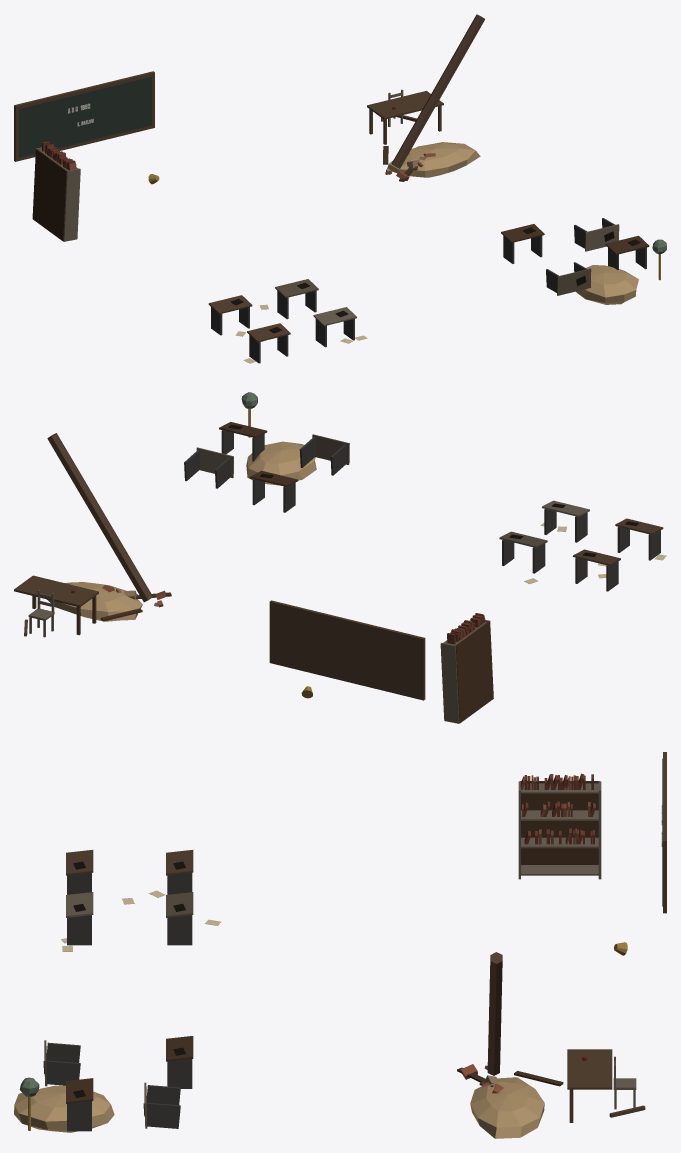
Rendered from TownRoom_school.glb.
The picture shows the model from 3 angles, top to bottom: view 1: azimuth 30°, elevation 25°; view 2: azimuth 150°, elevation 25°; view 3: azimuth 270°, elevation 25°; orthographic projection. The views are drawn at different scales.
Visible parts, largest first — view 1: TownRoom_school.001; view 2: TownRoom_school.001; view 3: TownRoom_school.001.
Part boxes in pixels (left/top/right/bottom): TownRoom_school.001: left=14, top=14, right=666, bottom=363; TownRoom_school.001: left=14, top=392, right=666, bottom=723; TownRoom_school.001: left=14, top=752, right=666, bottom=1138.
Size of the model in its own units: 12.52 by 4.35 by 13.05.
